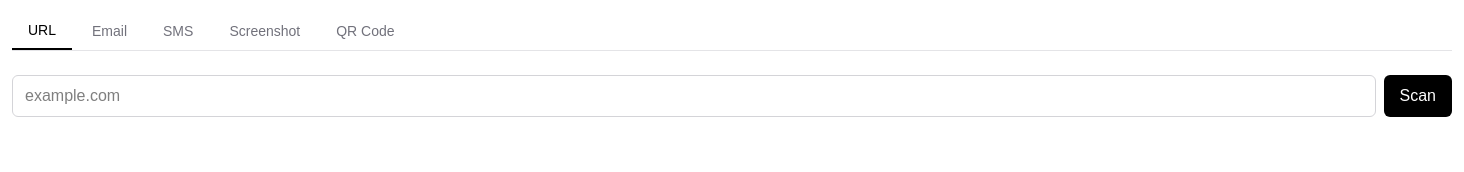
Scenario: ScanTabs › switches to the QR Code form when the QR Code tab is clicked
Click the tab "QR Code" at (365, 31), box [320,12,411,50]
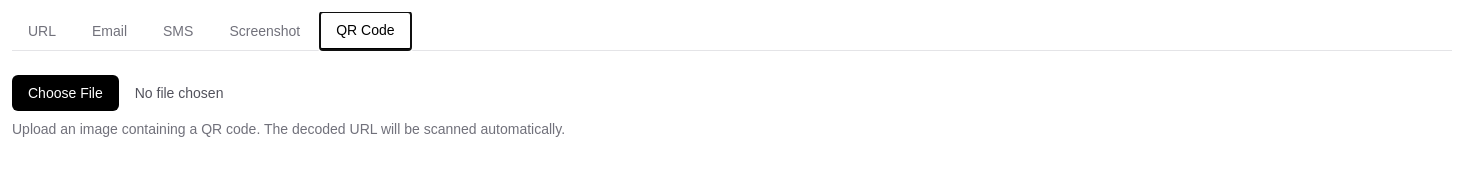
Expected: the field with placeholder "example.com" is not shown
Result: the file field named "upload an image containing a qr code" is shown at [12,75,1452,111]
